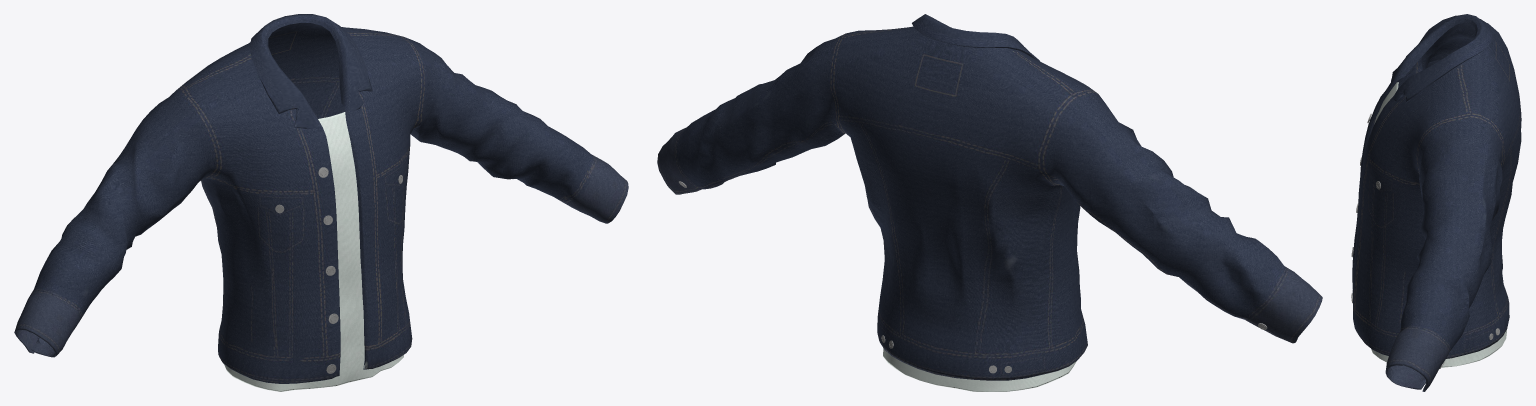
The model's file is jacket.glb.
3 views of the same model, side by side, from view 1: azimuth 30°, elevation 25°; view 2: azimuth 150°, elevation 25°; view 3: azimuth 270°, elevation 25° (orthographic). The views are drawn at different scales.
Parts seen in each view (by area): view 1: Denim_low, button; view 2: Denim_low; view 3: Denim_low, button.
Boxes of the visible parts, left/top/right/bottom form: Denim_low: left=14, top=14, right=628, bottom=391; button: left=275, top=167, right=402, bottom=373; Denim_low: left=657, top=14, right=1322, bottom=391; Denim_low: left=1352, top=14, right=1521, bottom=391; button: left=1351, top=113, right=1499, bottom=369.
Size of the model in its own units: 1.27 by 0.6426 by 0.3248.
Materials: 2 (2 with a texture image).
